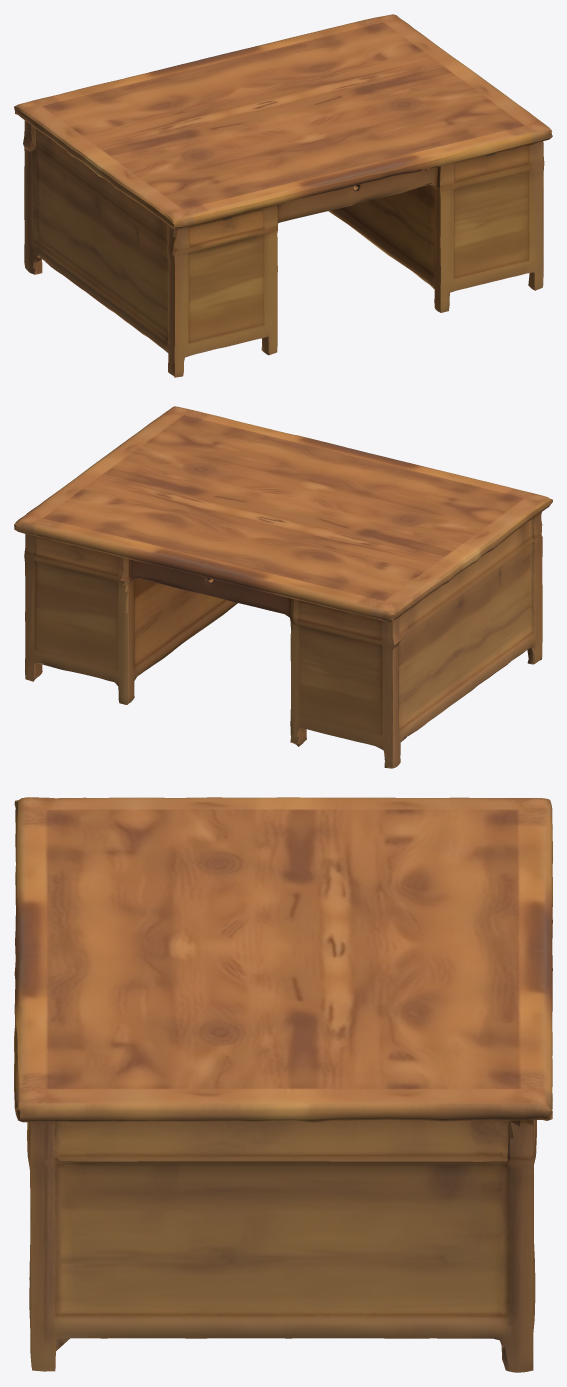
The model's file is berlin_desk.fbx.
The picture shows the model from 3 angles, top to bottom: view 1: azimuth 30°, elevation 25°; view 2: azimuth 150°, elevation 25°; view 3: azimuth 270°, elevation 25°; orthographic projection. The views are drawn at different scales.
Visible parts, largest first — view 1: berlin_desk; view 2: berlin_desk; view 3: berlin_desk.
Part boxes in pixels (x1=…): berlin_desk: x1=14, y1=14, x2=552, y2=377; berlin_desk: x1=14, y1=406, x2=552, y2=768; berlin_desk: x1=14, y1=797, x2=552, y2=1372.
Size of the model in its own units: 1.88 by 0.7724 by 1.38.
1 material, 1 textured.
